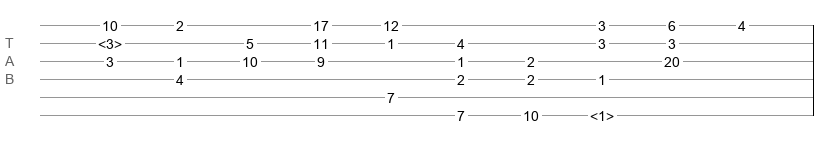1: (176, 54, 184, 64), (387, 36, 395, 46), (457, 54, 465, 64), (598, 72, 606, 82)
10: (102, 18, 118, 28), (242, 54, 258, 64), (523, 108, 539, 118)
11: (313, 36, 329, 46)
12: (383, 18, 399, 28)
17: (313, 18, 329, 28)
2: (176, 18, 184, 28), (457, 72, 465, 82), (527, 54, 535, 64), (527, 72, 535, 82)
20: (664, 54, 680, 64)
3: (106, 54, 114, 64), (598, 18, 606, 28), (598, 36, 606, 46), (668, 36, 676, 46)
4: (176, 72, 184, 82), (457, 36, 465, 46), (738, 18, 746, 28)
5: (246, 36, 254, 46)
6: (668, 18, 676, 28)
7: (387, 90, 395, 100), (457, 108, 465, 118)
9: (317, 54, 325, 64)
harmonic: (98, 36, 122, 46), (590, 108, 614, 118)
